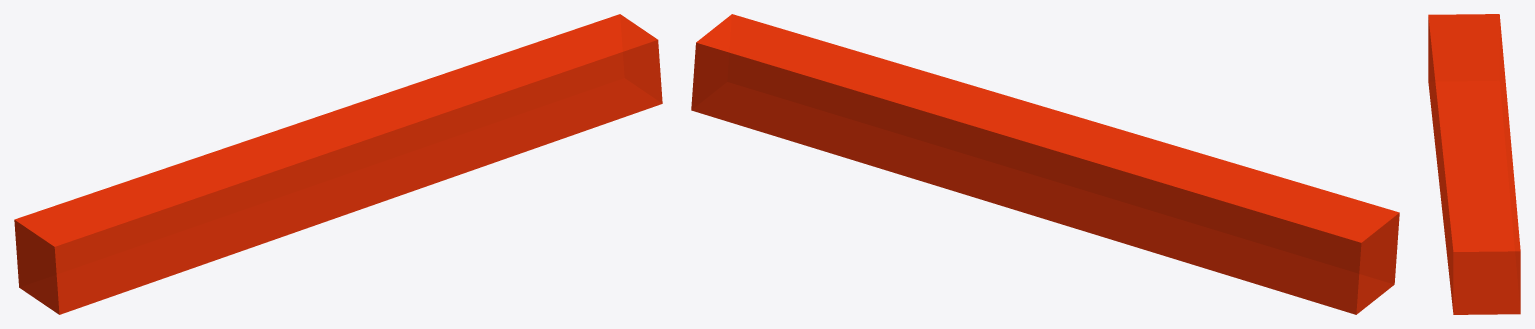
File: Event_421115418_EErechit_45.fbx
The picture shows the model from 3 angles, left to right: view 1: azimuth 30°, elevation 25°; view 2: azimuth 150°, elevation 25°; view 3: azimuth 270°, elevation 25°; orthographic projection. The views are drawn at different scales.
Visible parts, largest first — view 1: Model; view 2: Model; view 3: Model.
Part boxes in pixels (<box>): Model: <box>14,14,662,314</box>; Model: <box>691,14,1399,314</box>; Model: <box>1428,14,1520,314</box>.
Bounding box in the file's own units: 0.7246 × 0.129 × 0.0997.
